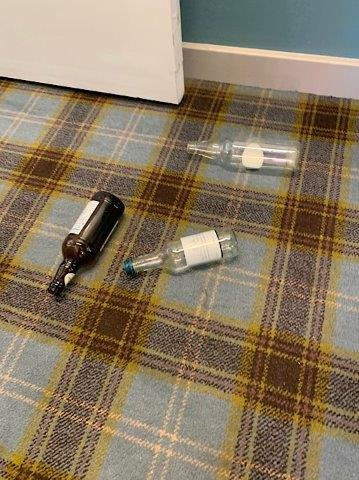botolkaca: (48, 192, 124, 293), (125, 229, 237, 274), (188, 139, 302, 171)
